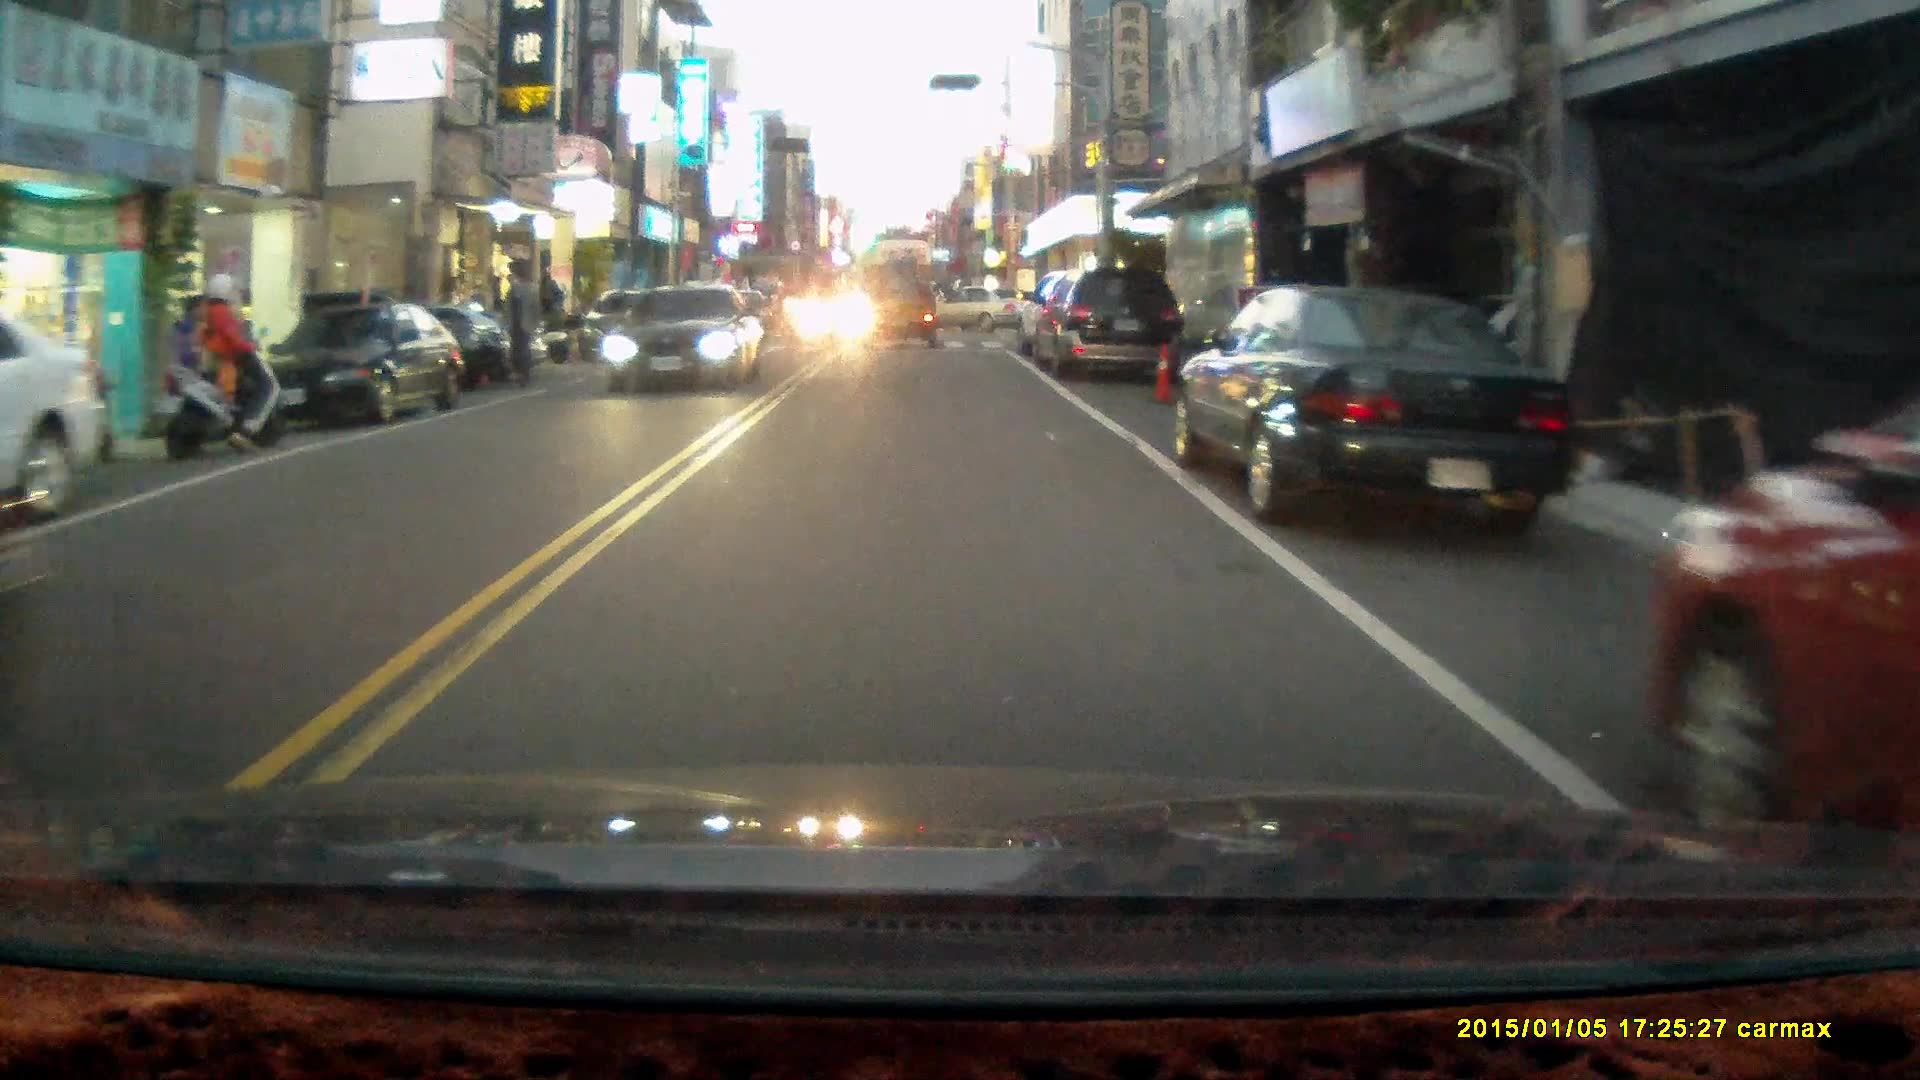pedestrian: (499, 265, 542, 391)
rider: (159, 271, 286, 453)
vehicle: (1647, 410, 1920, 877), (1169, 281, 1583, 544), (246, 298, 460, 425), (1028, 266, 1189, 381), (604, 281, 767, 391), (864, 264, 942, 353), (916, 286, 1045, 336)
